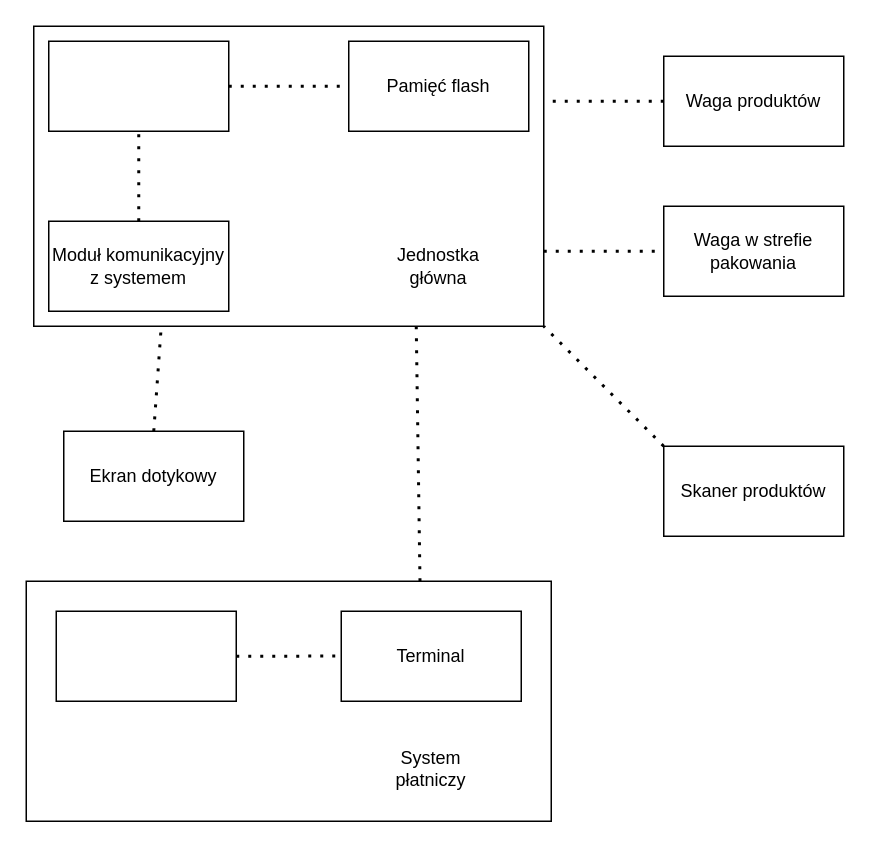
This 870x848 diagram has some shape labels left out. The shapes that lost their labels are listed below. From the top down, each one's centre as x and y in pixels, then its label:
pixel 138 85: CPU
pixel 145 655: Drukarka
